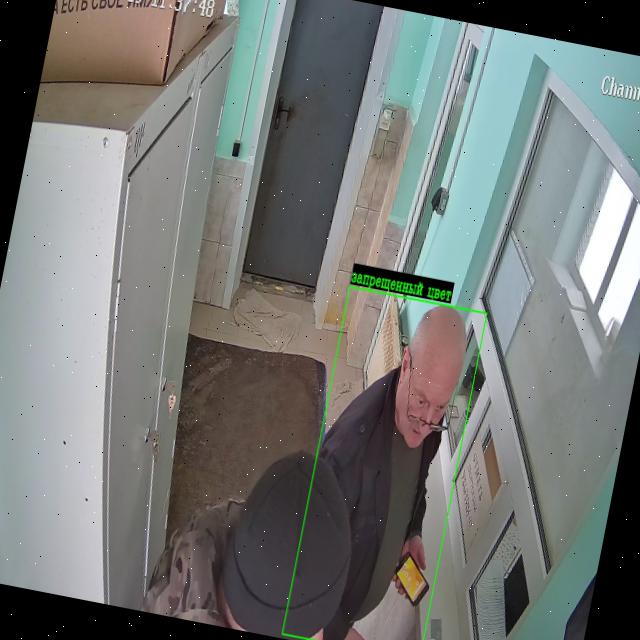Person: (317, 306, 465, 640), (141, 452, 313, 627)
